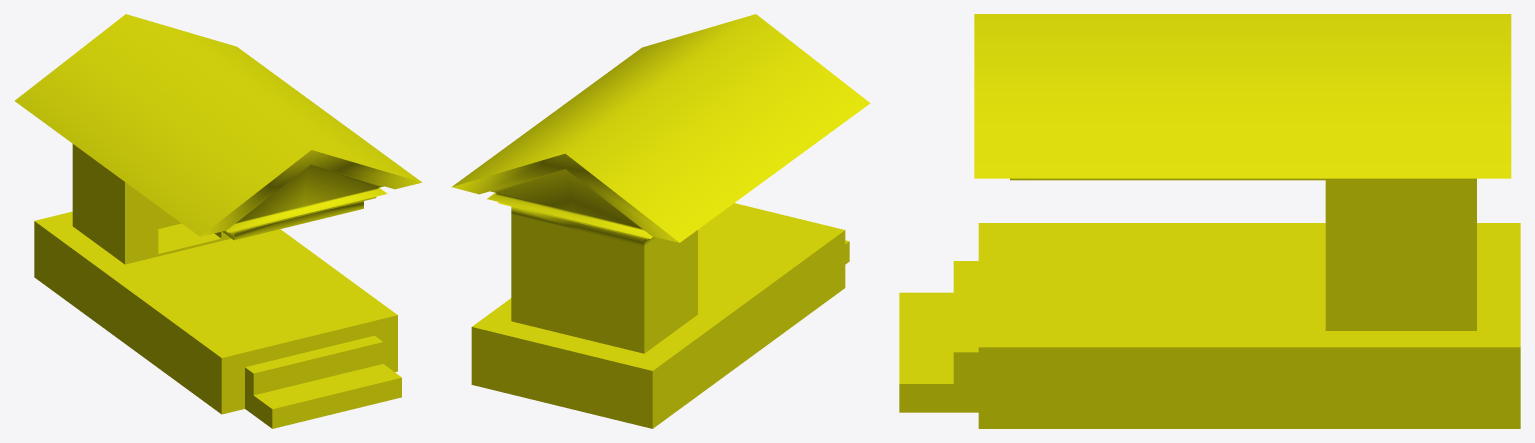
Rendered from mdl_ciudadela_casa.fbx.
3 renders of one model, left to right at view 1: azimuth 30°, elevation 25°; view 2: azimuth 150°, elevation 25°; view 3: azimuth 270°, elevation 25°, orthographic. The views are drawn at different scales.
Parts seen in each view (by area): view 1: mdl_ciudadela_casa; view 2: mdl_ciudadela_casa; view 3: mdl_ciudadela_casa.
Boxes of the visible parts, box(x1,y1,x2,y2) form: mdl_ciudadela_casa: box(15, 14, 421, 428); mdl_ciudadela_casa: box(451, 14, 870, 428); mdl_ciudadela_casa: box(899, 14, 1520, 428).
Size of the model in its own units: 10.53 by 11.04 by 17.61.
